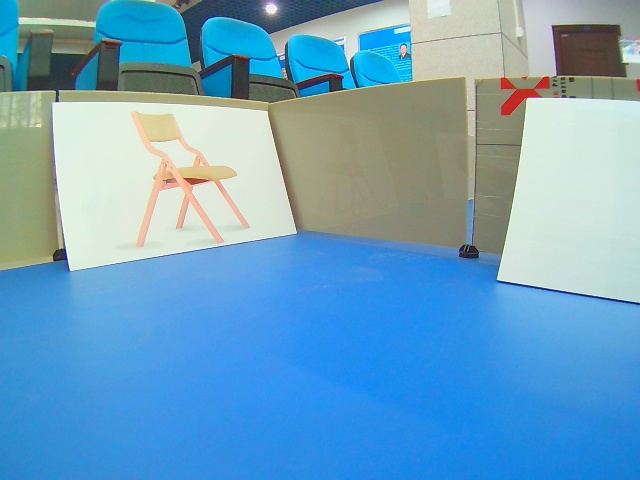table: (52, 103, 298, 273)
